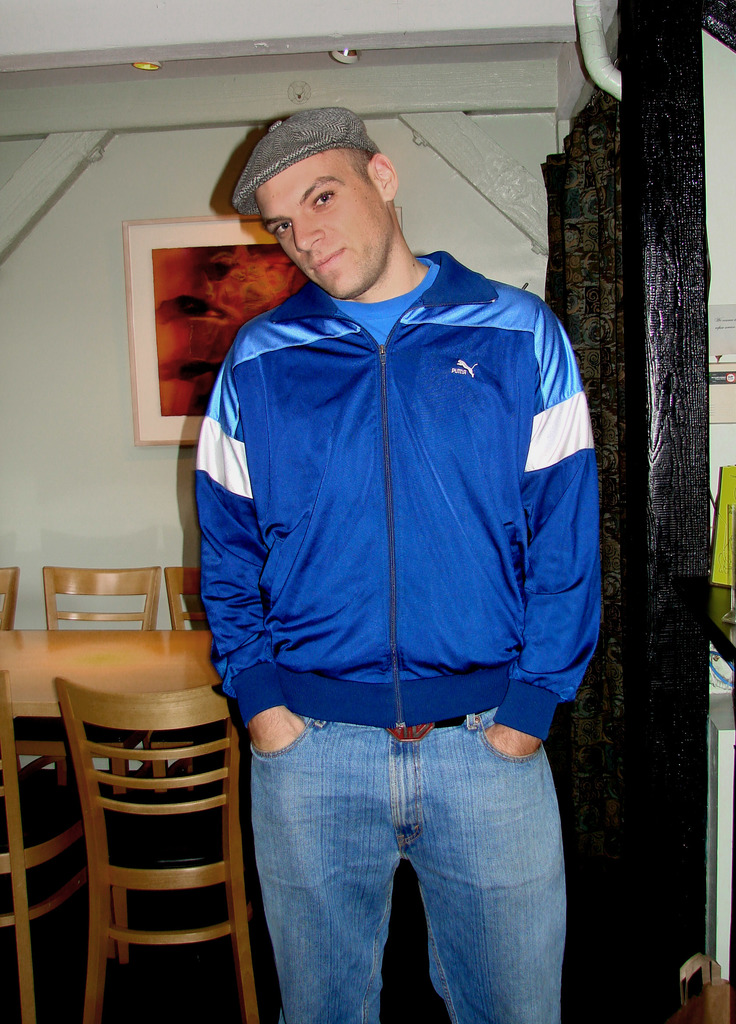Chair: (0, 667, 112, 1023), (10, 564, 159, 805), (140, 560, 232, 796), (0, 560, 19, 637)
